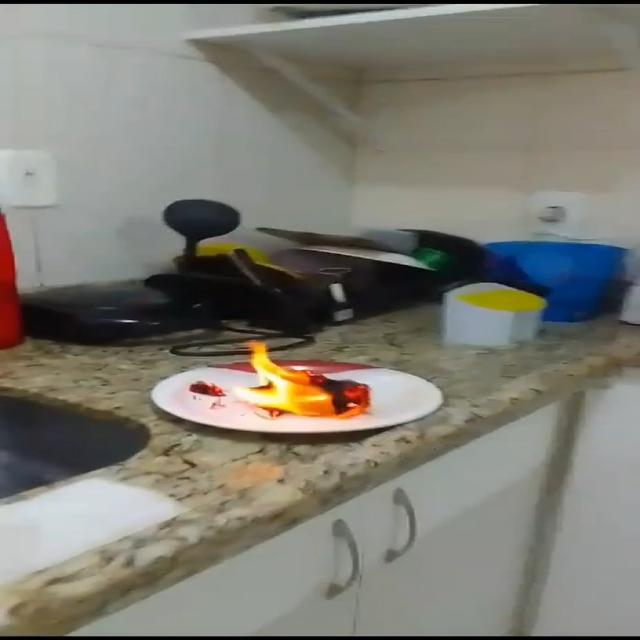fogo-ypXI: (233, 340, 373, 420)
